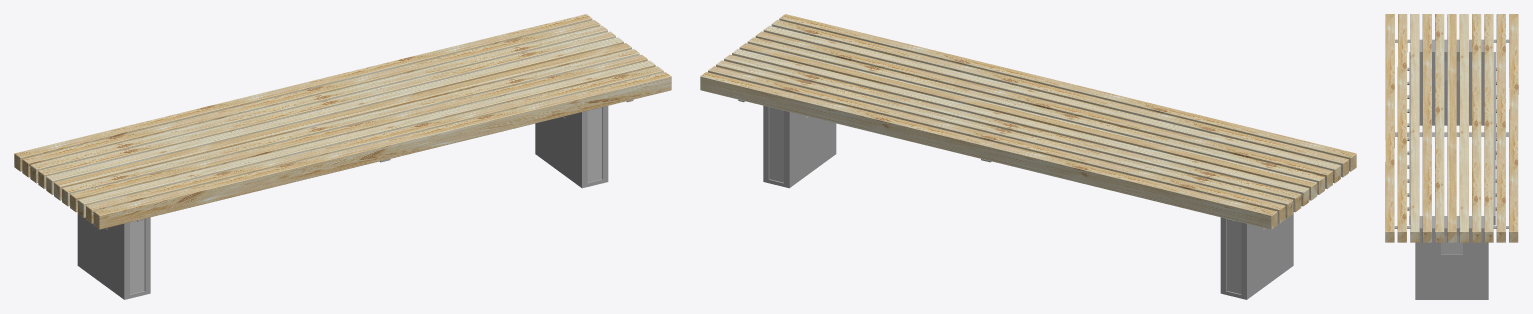
The model's file is sweethome3d-scopia-little-bank-8.glb.
The picture shows the model from 3 angles, left to right: view 1: azimuth 30°, elevation 25°; view 2: azimuth 150°, elevation 25°; view 3: azimuth 270°, elevation 25°; orthographic projection. The views are drawn at different scales.
Parts seen in each view (by area): view 1: maderas_banco.001_Cub, bancoluz.001_Cube.001, bancoluz.001_Cube; view 2: maderas_banco.001_Cub, bancoluz.001_Cube.001, bancoluz.001_Cube; view 3: maderas_banco.001_Cub, bancoluz.001_Cube.001, bancoluz.001_Cube.
Boxes of the visible parts, left/top/right/bottom form: maderas_banco.001_Cub: left=14, top=14, right=671, bottom=229; bancoluz.001_Cube.001: left=77, top=99, right=633, bottom=299; bancoluz.001_Cube: left=106, top=107, right=602, bottom=294; maderas_banco.001_Cub: left=700, top=14, right=1356, bottom=229; bancoluz.001_Cube.001: left=738, top=99, right=1293, bottom=299; bancoluz.001_Cube: left=769, top=107, right=1264, bottom=294; maderas_banco.001_Cub: left=1385, top=14, right=1518, bottom=242; bancoluz.001_Cube.001: left=1394, top=39, right=1509, bottom=299; bancoluz.001_Cube: left=1441, top=61, right=1462, bottom=254.
Bounding box in the file's own units: 2.53 × 0.4611 × 0.6535.
Materials: 3 (1 with a texture image).
